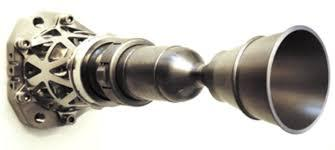thruster: (193, 24, 331, 135)
